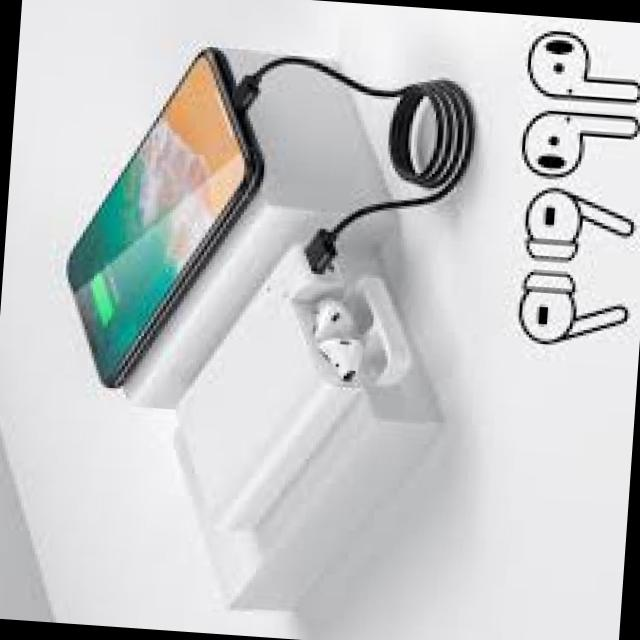portable-charger: (170, 222, 367, 523)
